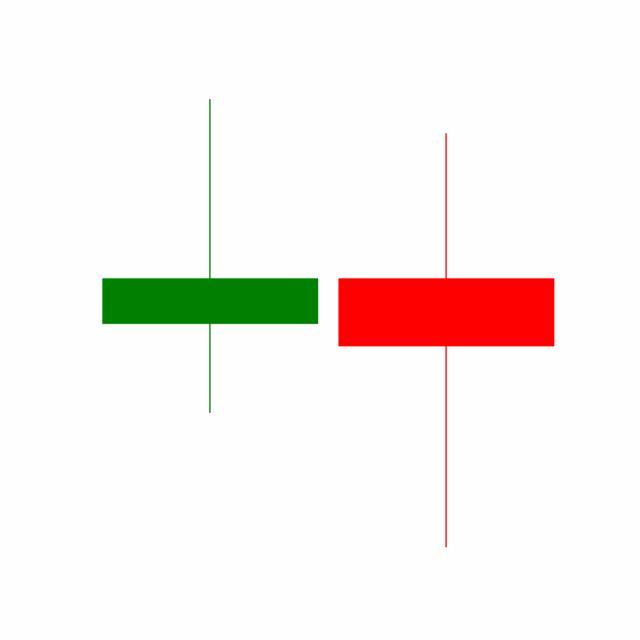Spinning Top: (328, 129, 566, 553)
